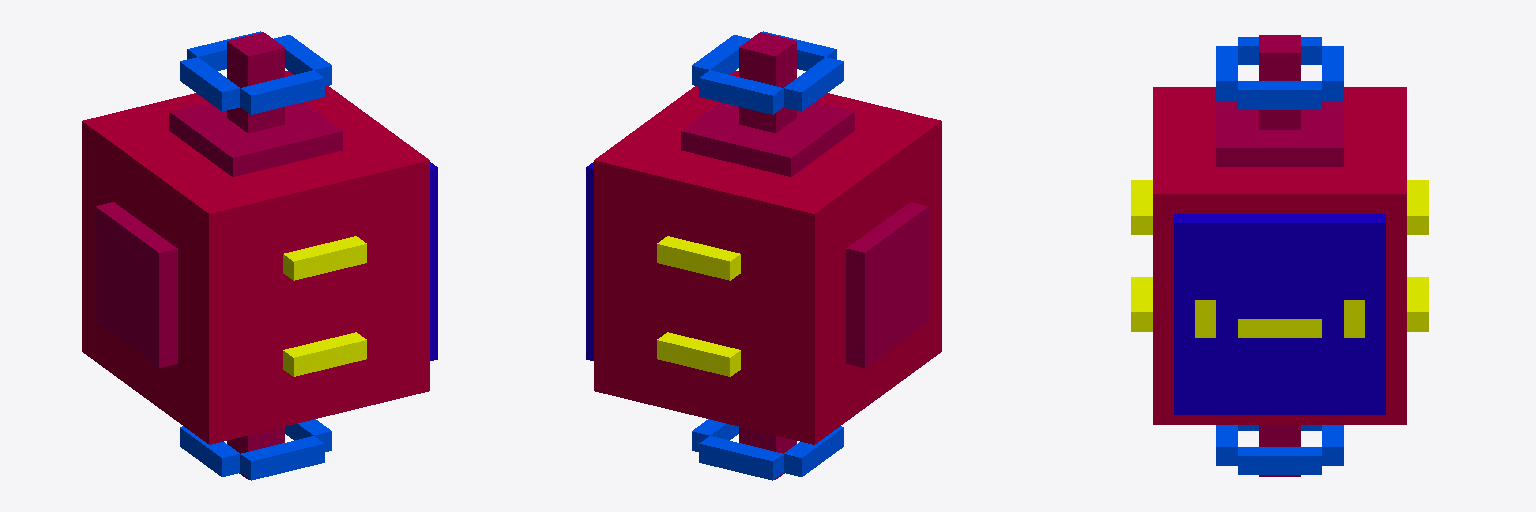
The picture shows the model from 3 angles: view 1: azimuth 30°, elevation 25°; view 2: azimuth 150°, elevation 25°; view 3: azimuth 270°, elevation 25°; orthographic projection.
Parts seen in each view (by area): view 1: object 1; view 2: object 1; view 3: object 1.
Part boxes in pixels (x1,y1,x2,y2): object 1: (82, 31, 437, 480); object 1: (586, 31, 941, 480); object 1: (1131, 35, 1428, 476).
Size of the model in its own units: 1.4 by 2.2 by 1.4.
1 materials, 1 textured.